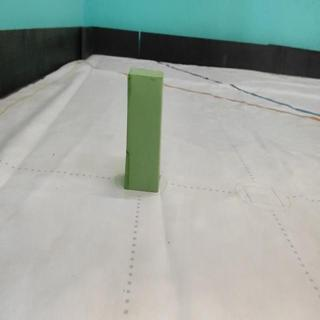greenbox: (122, 64, 165, 193)
